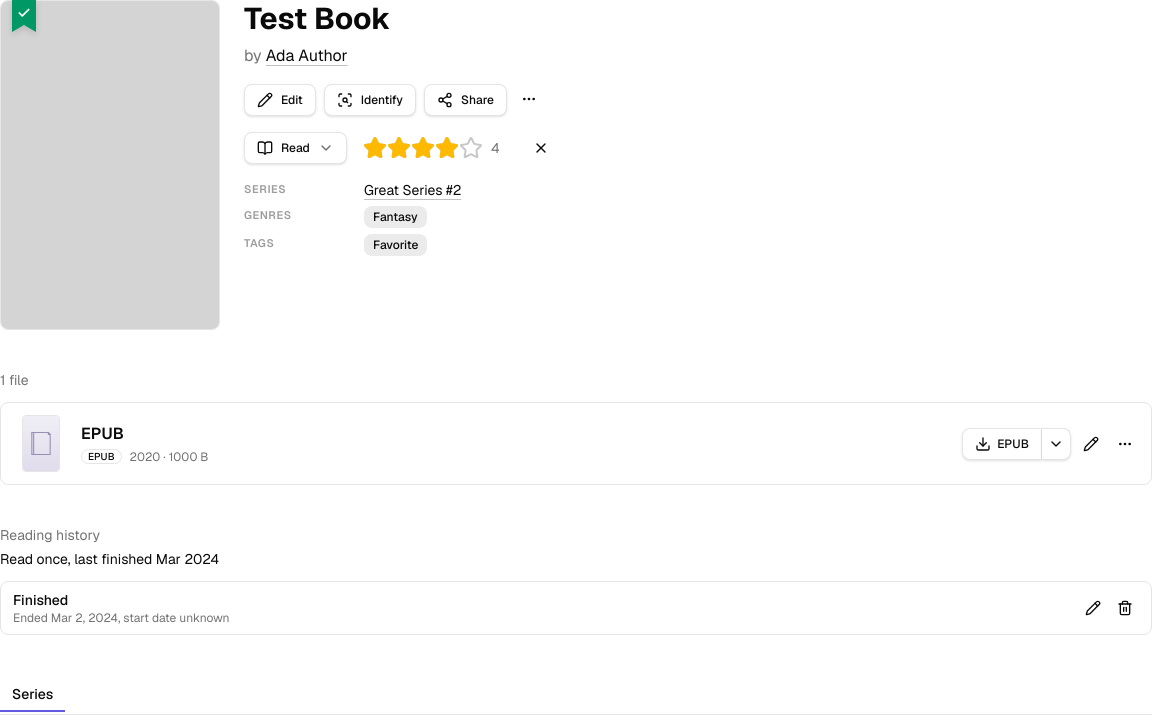
Scenario: BookDetailBody without Share Link context › shows the library, folder, sort title, and dates in Book details
The width and height of the screenshot is (1152, 720).
Click the button named "Book actions": (529, 99) [515,85,543,113]
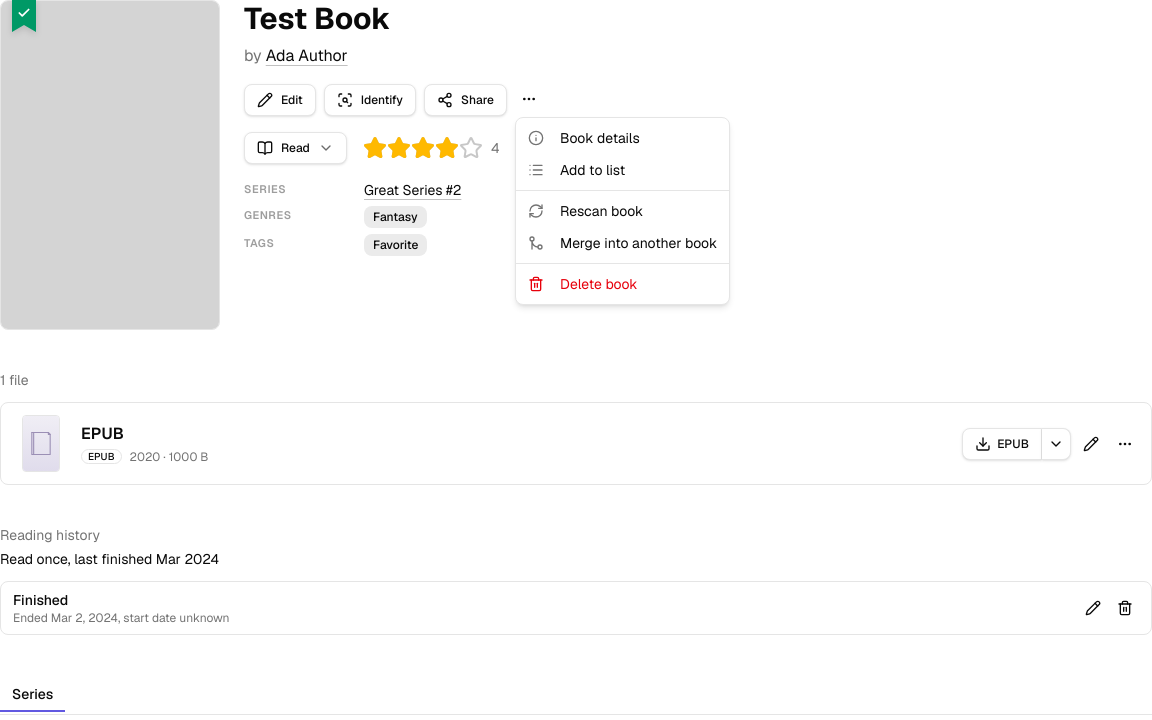
Click the menu item "Book details": (584, 138) [528,129,640,147]
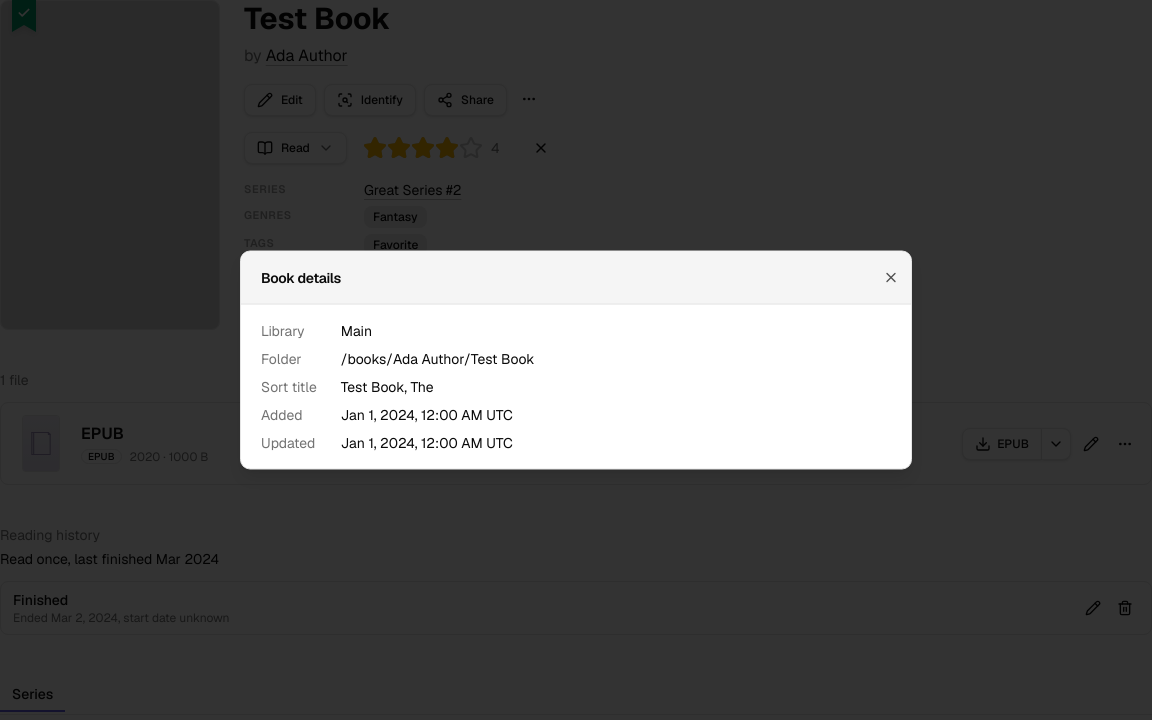
Now the text "Main" is shown, box [341,322,372,340]
Now the text "Test Book, The" is shown, box [341,378,434,396]
Now the element showing "/books/Ada Author/Test Book" is shown, box [341,350,535,368]
